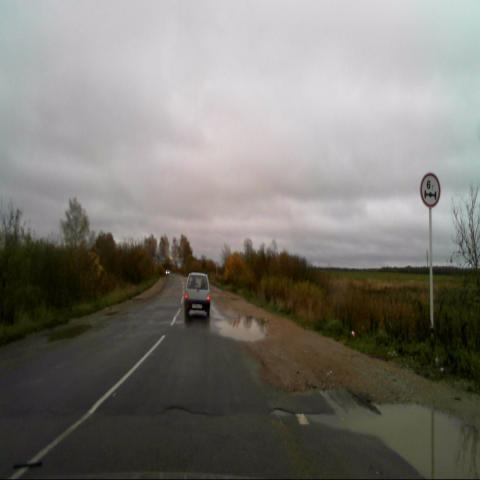3_12: (420, 172, 441, 208)
